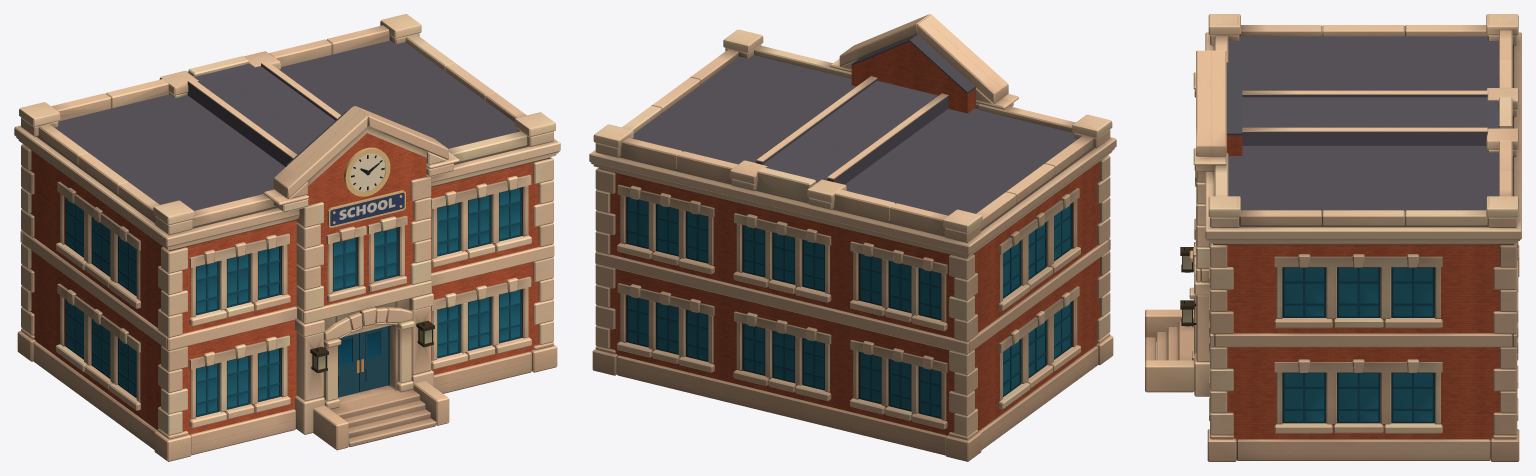
File: houdini_school.glb
3 renders of one model, left to right at view 1: azimuth 30°, elevation 25°; view 2: azimuth 150°, elevation 25°; view 3: azimuth 270°, elevation 25°, orthographic. The views are drawn at different scales.
Visible parts, largest first — view 1: LOD0; view 2: LOD0; view 3: LOD0.
Boxes of the visible parts, box(x1,y1,x2,y2) form: LOD0: box(14, 14, 560, 461); LOD0: box(589, 14, 1116, 461); LOD0: box(1145, 14, 1521, 461).
Size of what is drawn, in the model's own units: 15.3 by 11.24 by 12.26.
Materials: 4 (4 with a texture image).
